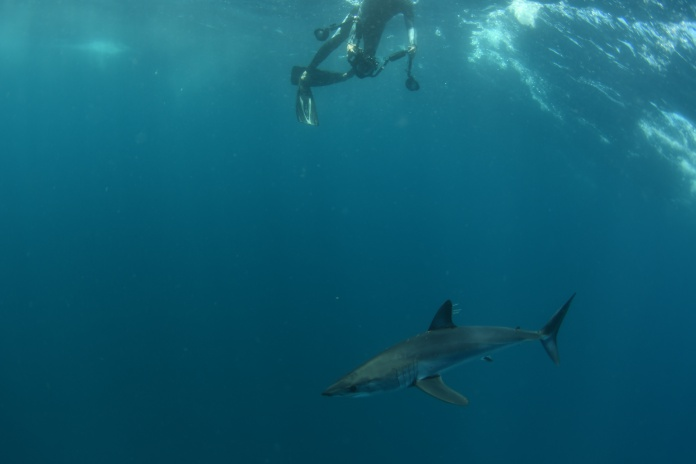Mako: (308, 277, 580, 424)
